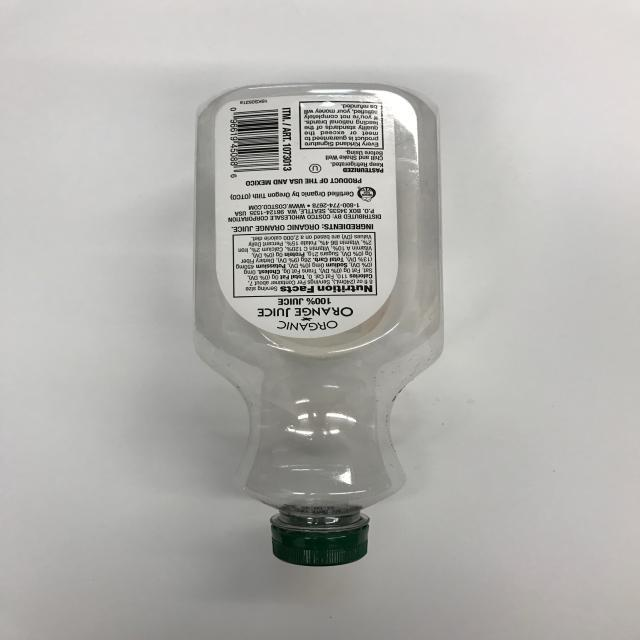plastic: (188, 77, 452, 573)
